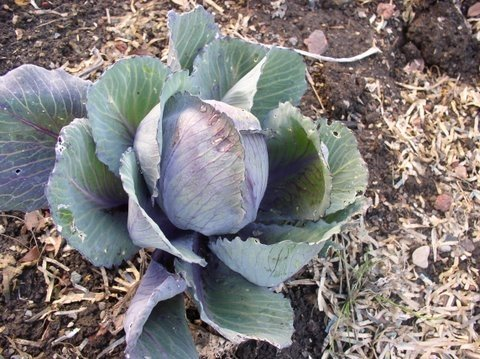cabbage: (150, 99, 268, 235)
